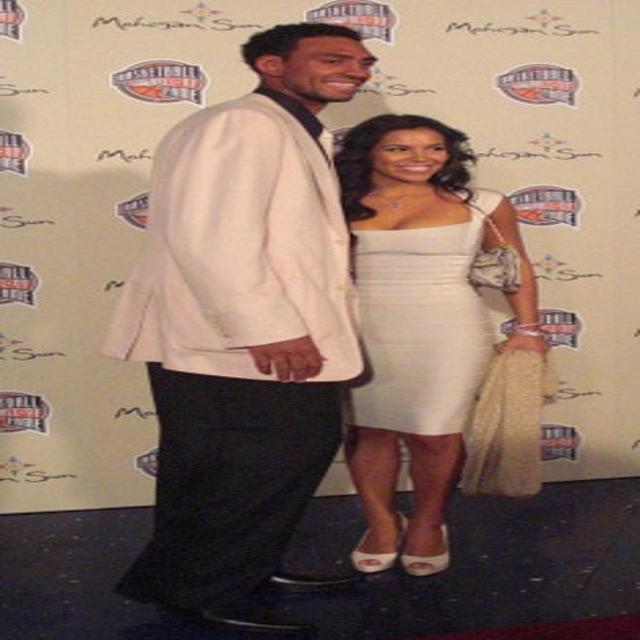Face: (358, 118, 473, 184), (286, 37, 376, 106)
